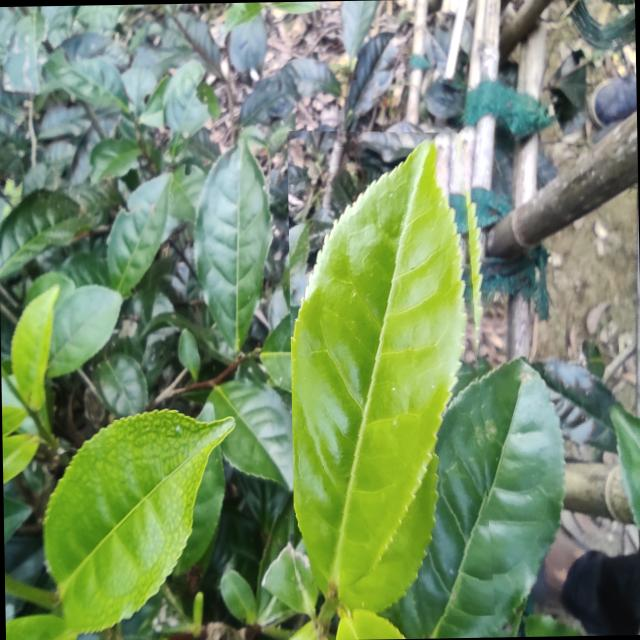Category B 2-4 days: (286, 125, 496, 618)
